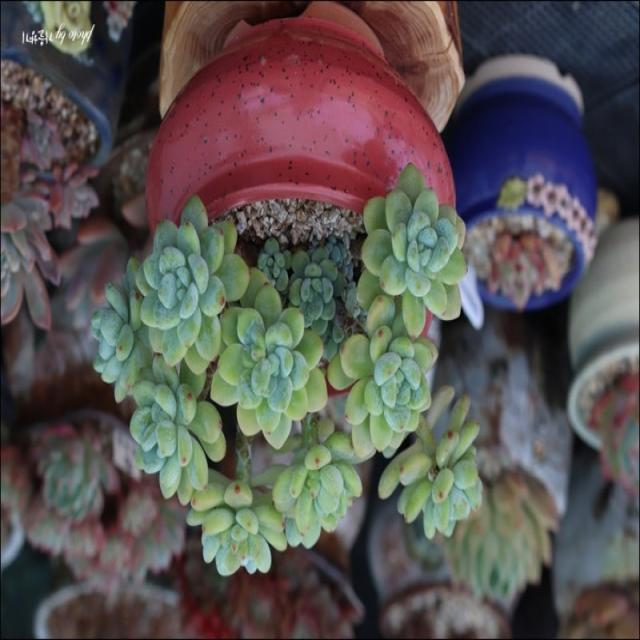LumiRose: (329, 272, 438, 458), (211, 285, 328, 449), (361, 165, 466, 339), (379, 386, 482, 539), (136, 196, 226, 367), (130, 355, 226, 505), (259, 236, 364, 361), (272, 418, 362, 548), (186, 473, 286, 576), (91, 258, 152, 402), (107, 417, 131, 451)
